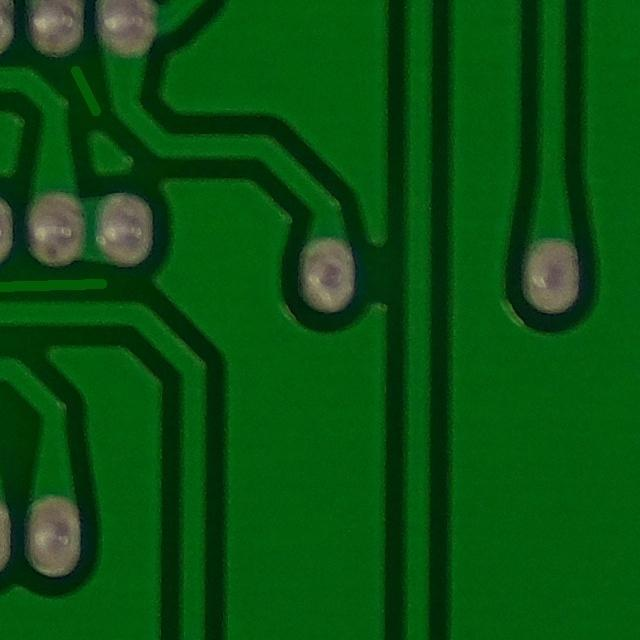spurious_copper: (0, 251, 119, 317), (55, 44, 107, 129)
